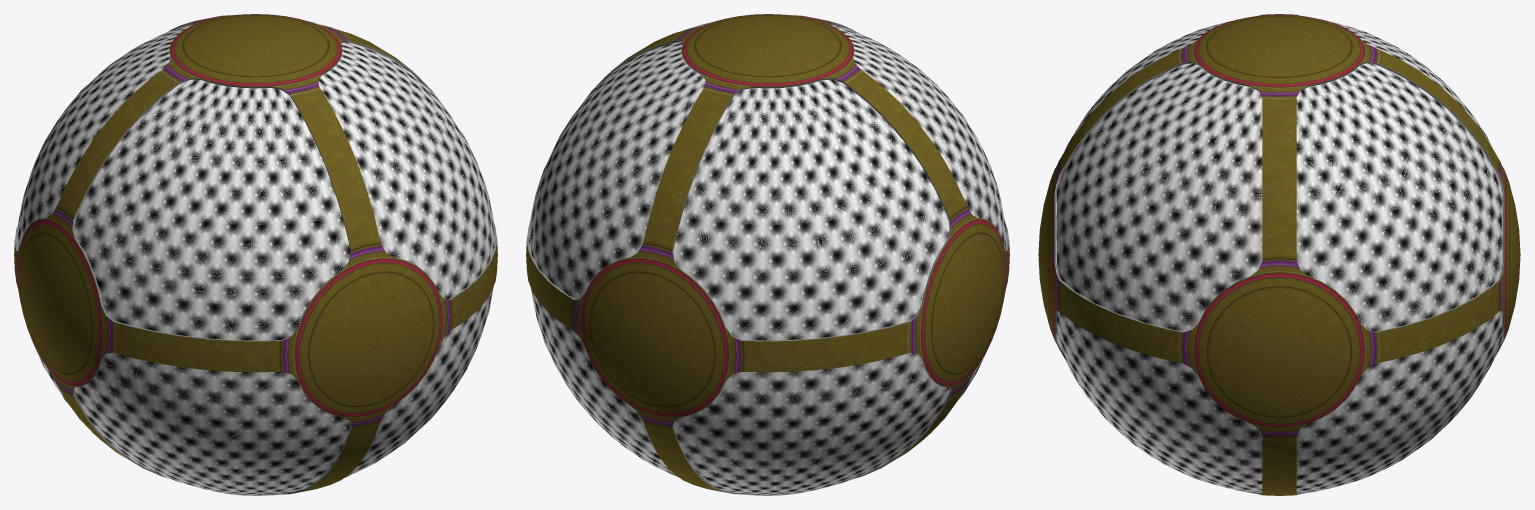
Rendered from planet_1.glb.
3 views of the same model, side by side, from view 1: azimuth 30°, elevation 25°; view 2: azimuth 150°, elevation 25°; view 3: azimuth 270°, elevation 25° (orthographic).
Visible parts, largest first — view 1: m3, m1, m4, m2; view 2: m3, m1, m4, m2; view 3: m3, m1, m4, m2.
Boxes of the visible parts, x1,y1,x2,y2 form: m3: [17, 20, 494, 494]; m1: [14, 14, 497, 491]; m4: [18, 21, 494, 494]; m2: [15, 23, 496, 495]; m3: [529, 19, 1006, 494]; m1: [526, 14, 1009, 491]; m4: [530, 24, 1006, 494]; m2: [527, 23, 1008, 495]; m3: [1056, 20, 1502, 493]; m1: [1038, 14, 1520, 495]; m4: [1056, 24, 1502, 492]; m2: [1054, 61, 1504, 494].
Size of the model in its own units: 25 by 25 by 25.
Materials: 8 (6 with a texture image).
